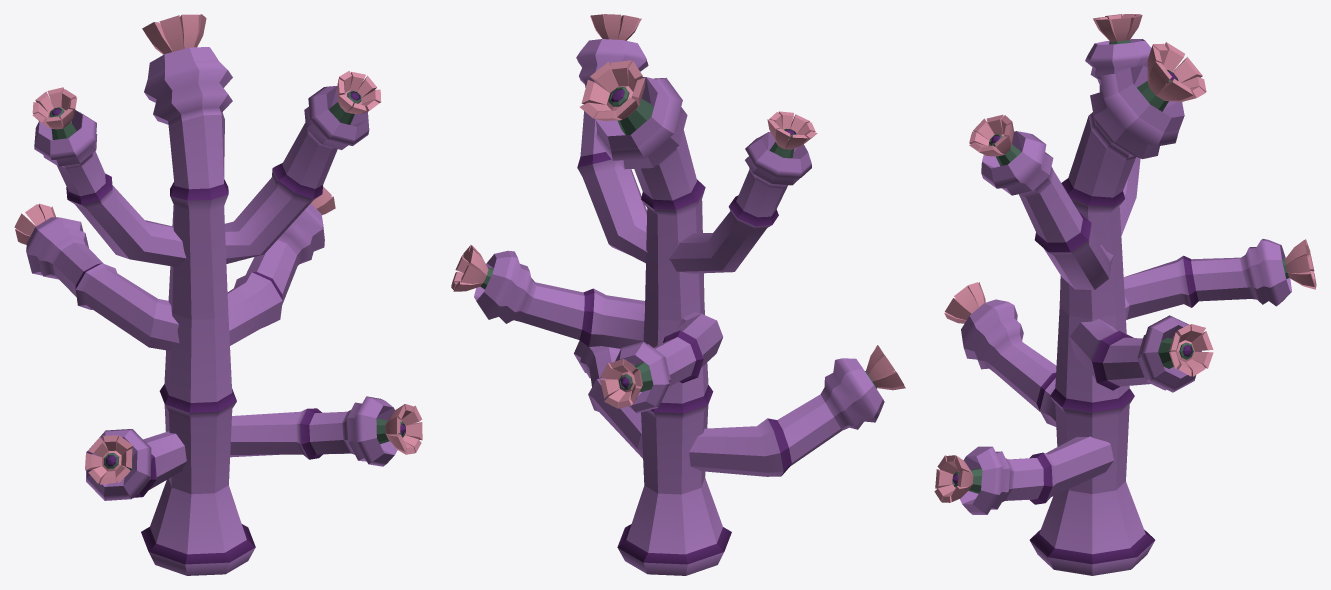
File: _CODIR_04_Plant_03.fbx
The picture shows the model from 3 angles, left to right: view 1: azimuth 30°, elevation 25°; view 2: azimuth 150°, elevation 25°; view 3: azimuth 270°, elevation 25°; orthographic projection.
Visible parts, largest first — view 1: Plant_03; view 2: Plant_03; view 3: Plant_03.
Part boxes in pixels (x1,y1,x2,y2): Plant_03: (14,14,422,575); Plant_03: (451,14,905,575); Plant_03: (934,14,1316,575).
Size of the model in its own units: 4.91 by 6.89 by 4.62.
